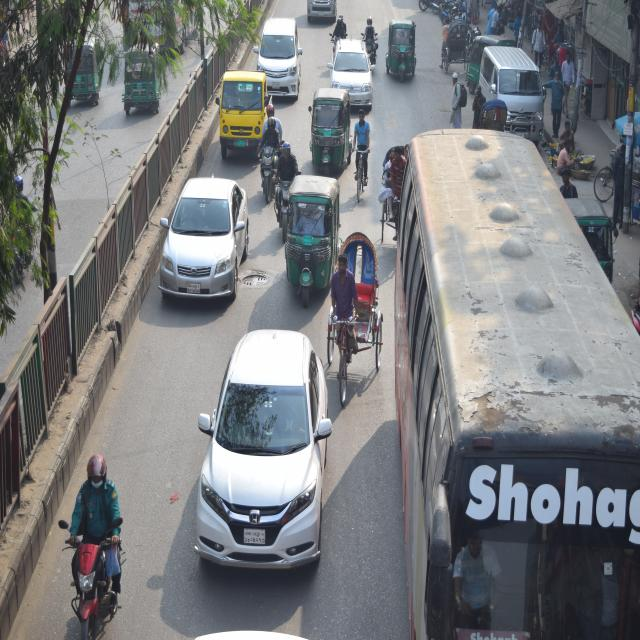bus: (395, 127, 640, 640)
car: (196, 328, 336, 568), (160, 174, 249, 310), (261, 18, 310, 99), (336, 35, 374, 114)
microbus: (478, 34, 551, 124)
motorbike: (65, 451, 126, 640), (276, 139, 298, 240), (253, 112, 279, 195), (333, 8, 347, 47), (362, 13, 377, 40)
pickup-van: (218, 63, 262, 152)
